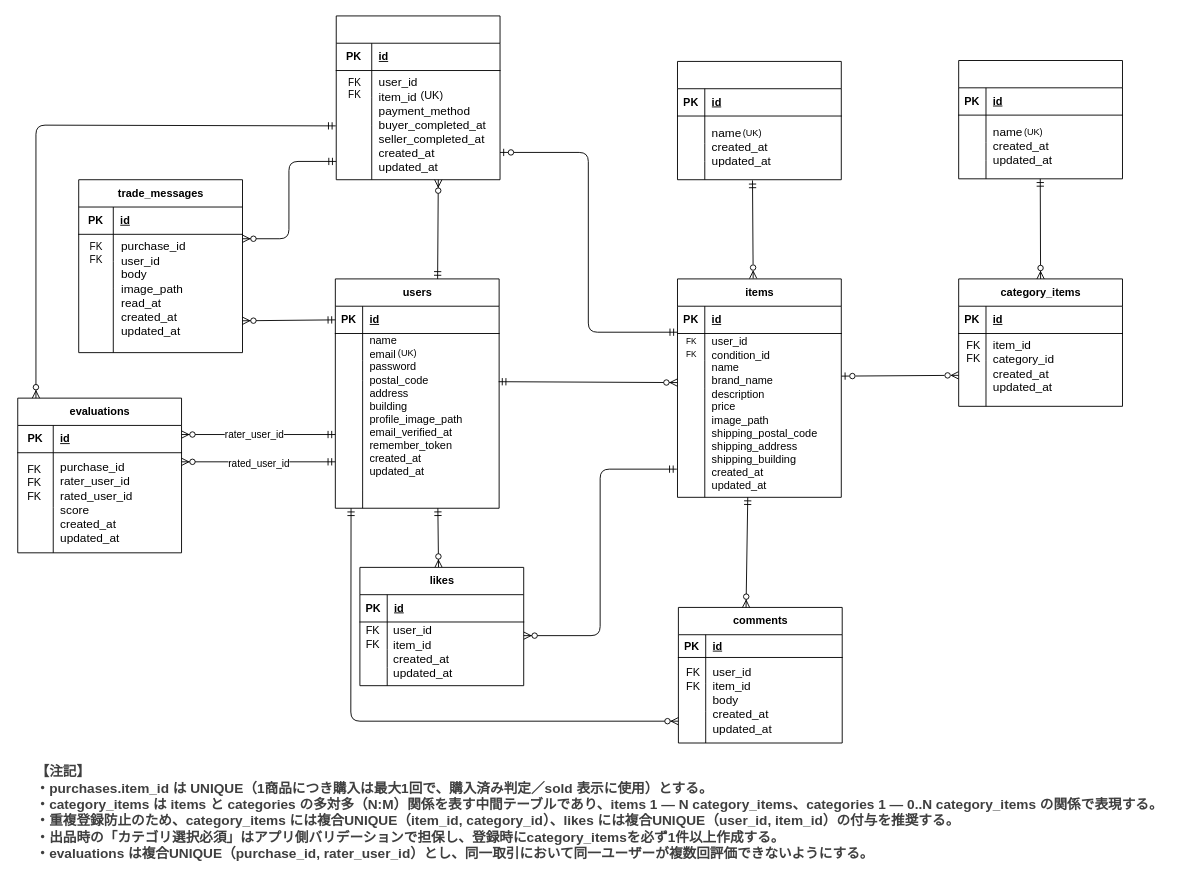
Image size: 1178x896. Some labels were removed from this diagram. Each missing label, with the box of its shape:
categories: (958, 60, 1122, 179)
conditions: (677, 61, 841, 180)
purchases: (335, 15, 500, 180)
